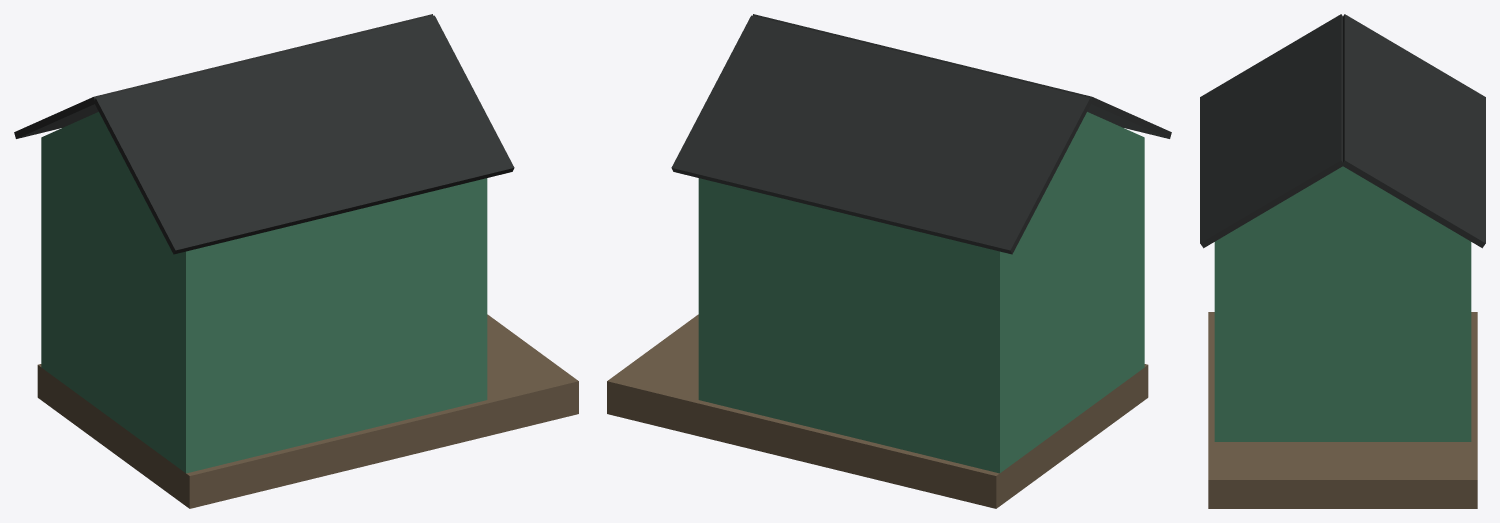
Rendered from SM_Prop_coast_beachhut_3_LOD2.glb.
The picture shows the model from 3 angles, left to right: view 1: azimuth 30°, elevation 25°; view 2: azimuth 150°, elevation 25°; view 3: azimuth 270°, elevation 25°; orthographic projection. The views are drawn at different scales.
Parts seen in each view (by area): view 1: SM_Prop_coast_beachhut_3_LOD2; view 2: SM_Prop_coast_beachhut_3_LOD2; view 3: SM_Prop_coast_beachhut_3_LOD2.
Part boxes in pixels (x1=…): SM_Prop_coast_beachhut_3_LOD2: x1=14, y1=14, x2=578, y2=508; SM_Prop_coast_beachhut_3_LOD2: x1=607, y1=14, x2=1171, y2=508; SM_Prop_coast_beachhut_3_LOD2: x1=1200, y1=14, x2=1485, y2=508.
Bounding box in the file's own units: 3.25 × 2.74 × 2.23.
